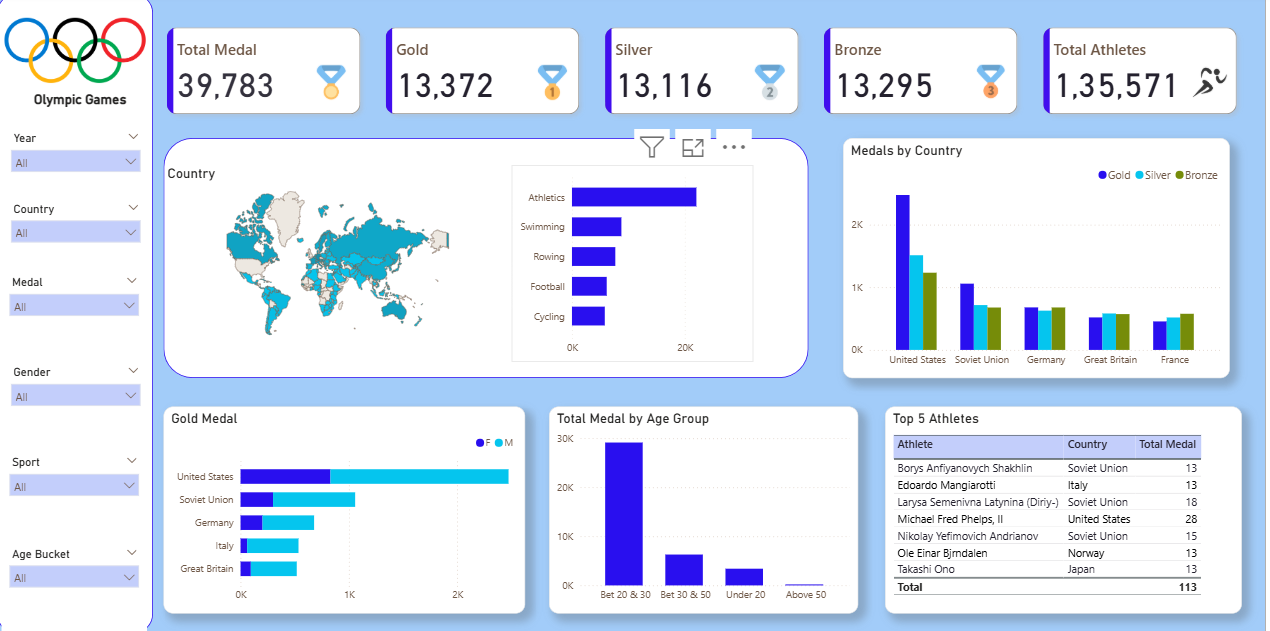

What the dashboard file says about the page in this screenshot:
{"tool":"powerbi","page":{"name":"Page 1","canvas":[1580,800],"ordinal":0},"visuals":[{"type":"shape","box":[207.5,179.4,803.7,299.1],"z":0},{"type":"cardVisual","fields":{"Data":["Measure_.Total Medal","Measure_.Gold","Measure_.Silver","Measure_.Bronze","Measure_.Total Athletes"]},"box":[194.4,24.3,1371.9,142.1],"z":1000},{"type":"shapeMap","title":"Country","fields":{"Category":["athlete (1).Team"],"Value":["athlete (1).Medal"]},"box":[207.5,213.1,433.6,226.2],"z":2000},{"type":"barChart","fields":{"Category":["athlete (1).Sport"],"Y":["athlete (1).Name"]},"box":[641.1,213.1,300.9,244.9],"z":3000},{"type":"clusteredColumnChart","title":"Medals by Country","fields":{"Category":["athlete (1).Team"],"Y":["Measure_.Gold","Measure_.Silver","Measure_.Bronze"]},"box":[1054.2,179.4,482.2,299.1],"z":4000},{"type":"barChart","title":"Gold Medal","fields":{"Y":["Measure_.Gold"],"Category":["athlete (1).Team"],"Series":["athlete (1).Sex"]},"box":[207.5,514,450.5,257.9],"z":5000},{"type":"columnChart","title":"Total Medal by Age Group","fields":{"Category":["athlete (1).Age Bucket"],"Y":["Measure_.Total Medal"]},"box":[687.8,514,385,257.9],"z":6000},{"type":"tableEx","title":"Top 5 Athletes","fields":{"Values":["athlete (1).Name","athlete (1).Team","athlete (1).Medal"]},"box":[1106.5,514,444.8,257.9],"z":7000},{"type":"shape","box":[0,0,194.4,796.2],"z":8000},{"type":"image","box":[0,24.3,194.4,91.6],"z":9000},{"type":"textbox","box":[0,115.9,207.5,213.1],"z":10000},{"type":"slicer","fields":{"Values":["athlete (1).Year"]},"box":[7.5,166.3,181.3,87.8],"z":11000},{"type":"slicer","fields":{"Values":["athlete (1).Team"]},"box":[7.5,254.2,181.3,112.1],"z":12000},{"type":"slicer","fields":{"Values":["athlete (1).Sport"]},"box":[5.6,570.1,181.3,112.1],"z":13000},{"type":"slicer","fields":{"Values":["athlete (1).Sex"]},"box":[7.5,457.9,181.3,112.1],"z":14000},{"type":"slicer","fields":{"Values":["athlete (1).Medal"]},"box":[5.6,345.8,181.3,112.1],"z":15000},{"type":"slicer","fields":{"Values":["athlete (1).Age Bucket"]},"box":[5.6,684.1,181.3,112.1],"z":16000}]}

Visuals, with their boxes in screenshot pixels (x1, y1, x2, y2), scaled from the page's 1580x800 canvas onto the 1270x631 screenshot:
shape: Rect(167, 142, 813, 377)
cardVisual - Measure_.Total Medal x Measure_.Gold: Rect(156, 19, 1259, 131)
"Country" shapeMap: Rect(167, 168, 515, 346)
barChart - athlete (1).Sport x athlete (1).Name: Rect(515, 168, 757, 361)
"Medals by Country" clusteredColumnChart: Rect(847, 142, 1235, 377)
"Gold Medal" barChart: Rect(167, 405, 529, 609)
"Total Medal by Age Group" columnChart: Rect(553, 405, 862, 609)
"Top 5 Athletes" tableEx: Rect(889, 405, 1247, 609)
shape: Rect(0, 0, 156, 628)
image: Rect(0, 19, 156, 91)
textbox: Rect(0, 91, 167, 259)
slicer - athlete (1).Year: Rect(6, 131, 152, 200)
slicer - athlete (1).Team: Rect(6, 201, 152, 289)
slicer - athlete (1).Sport: Rect(5, 450, 150, 538)
slicer - athlete (1).Sex: Rect(6, 361, 152, 450)
slicer - athlete (1).Medal: Rect(5, 273, 150, 361)
slicer - athlete (1).Age Bucket: Rect(5, 540, 150, 628)
